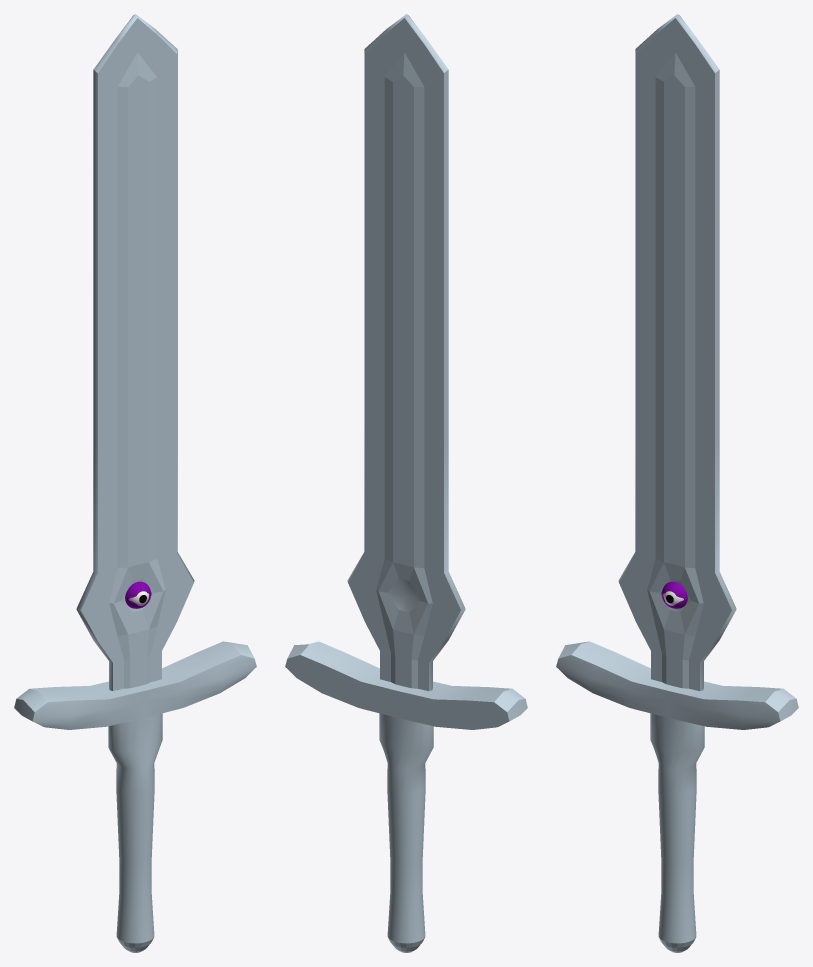
The model's file is Sword.fbx.
The picture shows the model from 3 angles, left to right: view 1: azimuth 30°, elevation 25°; view 2: azimuth 150°, elevation 25°; view 3: azimuth 330°, elevation 25°; orthographic projection.
Parts seen in each view (by area): view 1: Blade, Hilt, Pommel; view 2: Blade, Hilt, Pommel; view 3: Blade, Hilt, Pommel.
Boxes of the visible parts, x1,y1,x2,y2 form: Blade: [76, 14, 194, 691]; Hilt: [14, 641, 256, 729]; Pommel: [108, 713, 162, 952]; Blade: [347, 14, 465, 691]; Hilt: [285, 641, 527, 729]; Pommel: [379, 713, 433, 952]; Blade: [618, 14, 736, 691]; Hilt: [556, 641, 798, 729]; Pommel: [650, 713, 704, 952].
Bounding box in the file's own units: 20.49 × 80.53 × 3.23.
